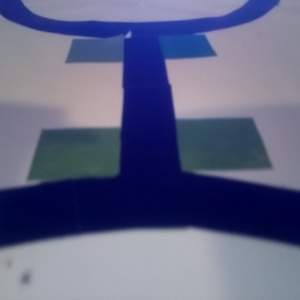bottom_right: (1, 144, 116, 261), (1, 34, 71, 66)
top_left: (151, 74, 251, 136)
